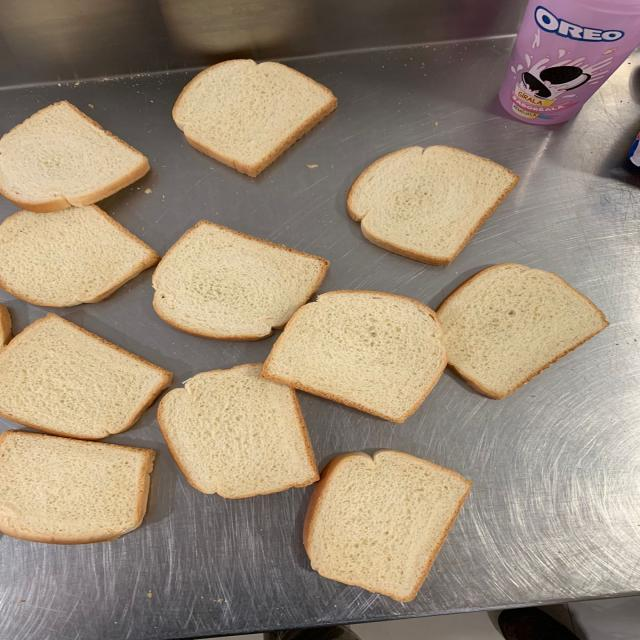sliced_bread: (303, 449, 473, 602), (261, 291, 448, 425), (435, 263, 612, 400), (158, 362, 319, 499), (0, 313, 172, 440), (152, 219, 331, 341), (346, 146, 521, 266), (173, 59, 338, 178), (0, 429, 156, 544), (0, 100, 151, 213), (0, 205, 158, 305)
